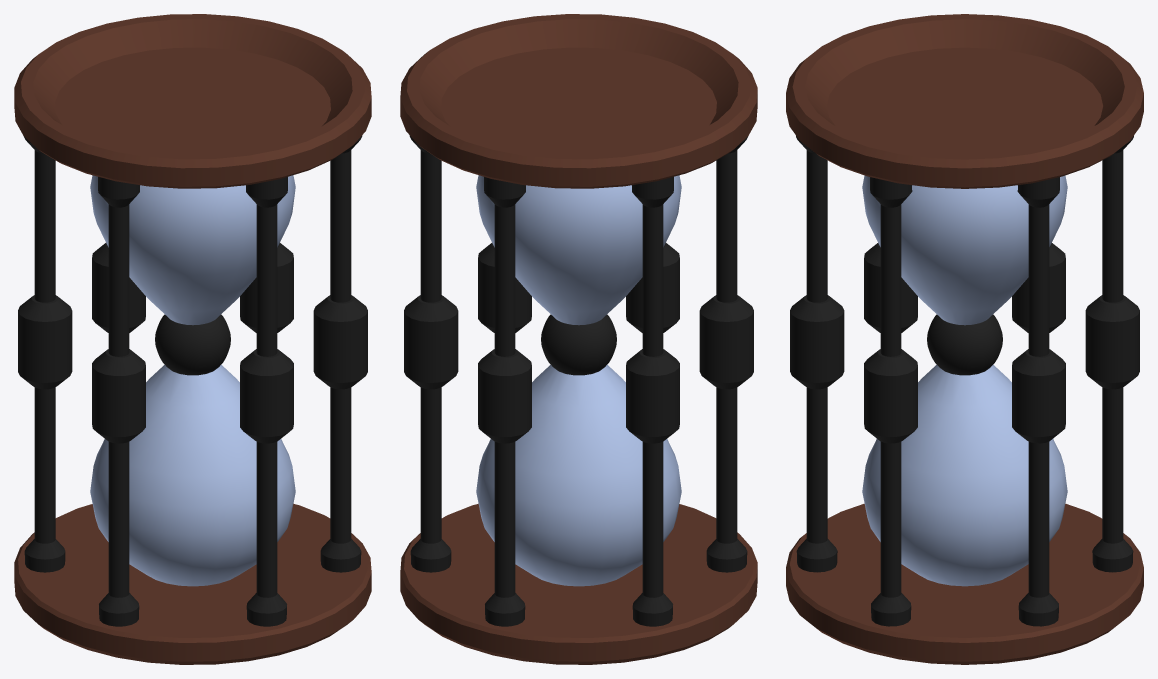
Rendered from Klepsydra_01.fbx.
3 views of the same model, side by side, from view 1: azimuth 30°, elevation 25°; view 2: azimuth 150°, elevation 25°; view 3: azimuth 270°, elevation 25° (orthographic).
Parts seen in each view (by area): view 1: Sphere; view 2: Sphere; view 3: Sphere.
Part boxes in pixels (bbox=[...]): Sphere: bbox=[14, 14, 371, 664]; Sphere: bbox=[400, 14, 757, 664]; Sphere: bbox=[786, 14, 1143, 664].
Size of the model in its own units: 3.56 by 5.55 by 3.56.
